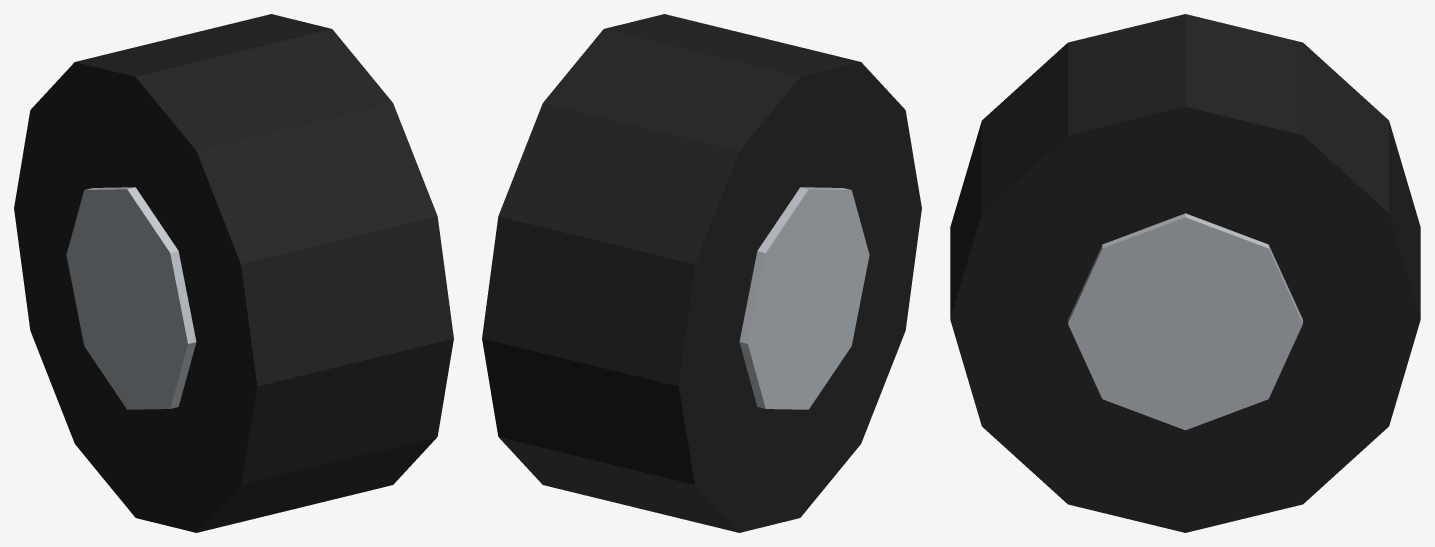
File: TRK_Pickup_Wheel.fbx
3 views of the same model, side by side, from view 1: azimuth 30°, elevation 25°; view 2: azimuth 150°, elevation 25°; view 3: azimuth 270°, elevation 25° (orthographic). The views are drawn at different scales.
Visible parts, largest first — view 1: TRK_Pickup_Wheel; view 2: TRK_Pickup_Wheel; view 3: TRK_Pickup_Wheel.
Part boxes in pixels (box(x1,y1,x2,y2)): TRK_Pickup_Wheel: box(14, 14, 453, 532); TRK_Pickup_Wheel: box(482, 14, 921, 532); TRK_Pickup_Wheel: box(950, 14, 1420, 532).
Size of the model in its own units: 1.52 by 3 by 3.
